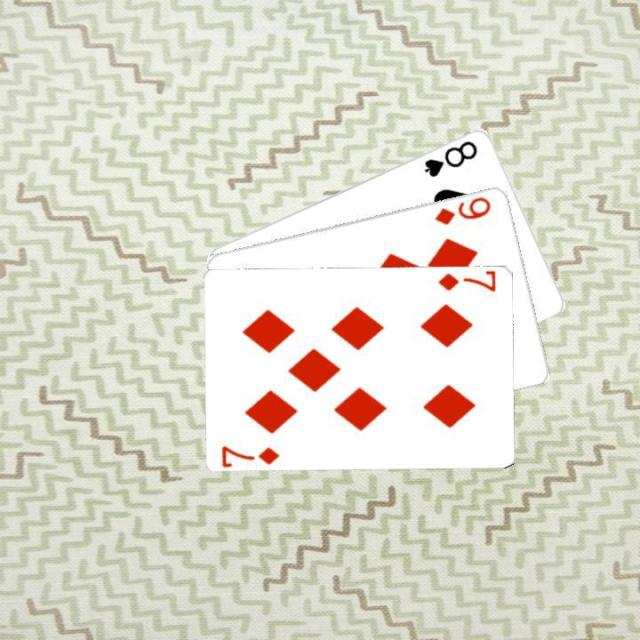7D: (434, 270, 498, 294), (218, 441, 282, 465)
8S: (420, 136, 480, 179)
9D: (431, 193, 493, 227)
